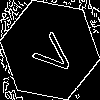V: (25, 25, 78, 80)
